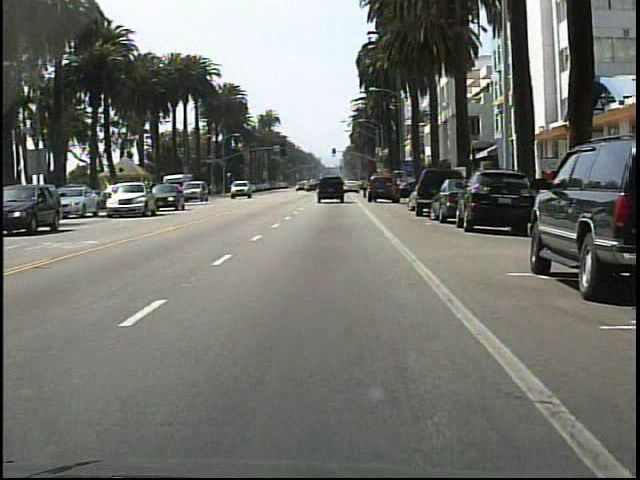person: (358, 174, 369, 201)
